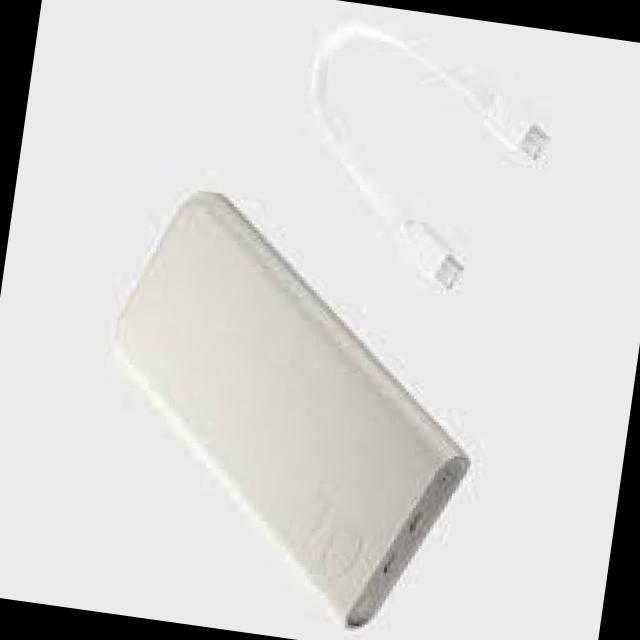power_bank: (74, 177, 505, 640)
